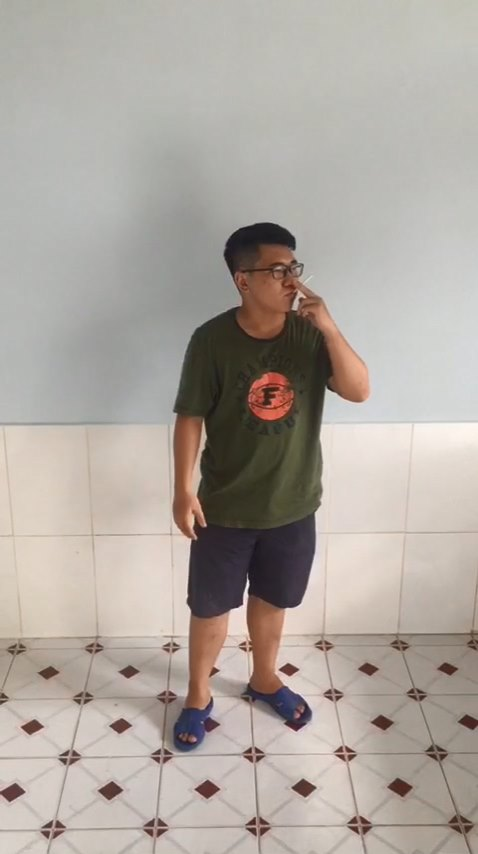cigarette: (301, 275, 317, 288)
person: (148, 203, 380, 771)
